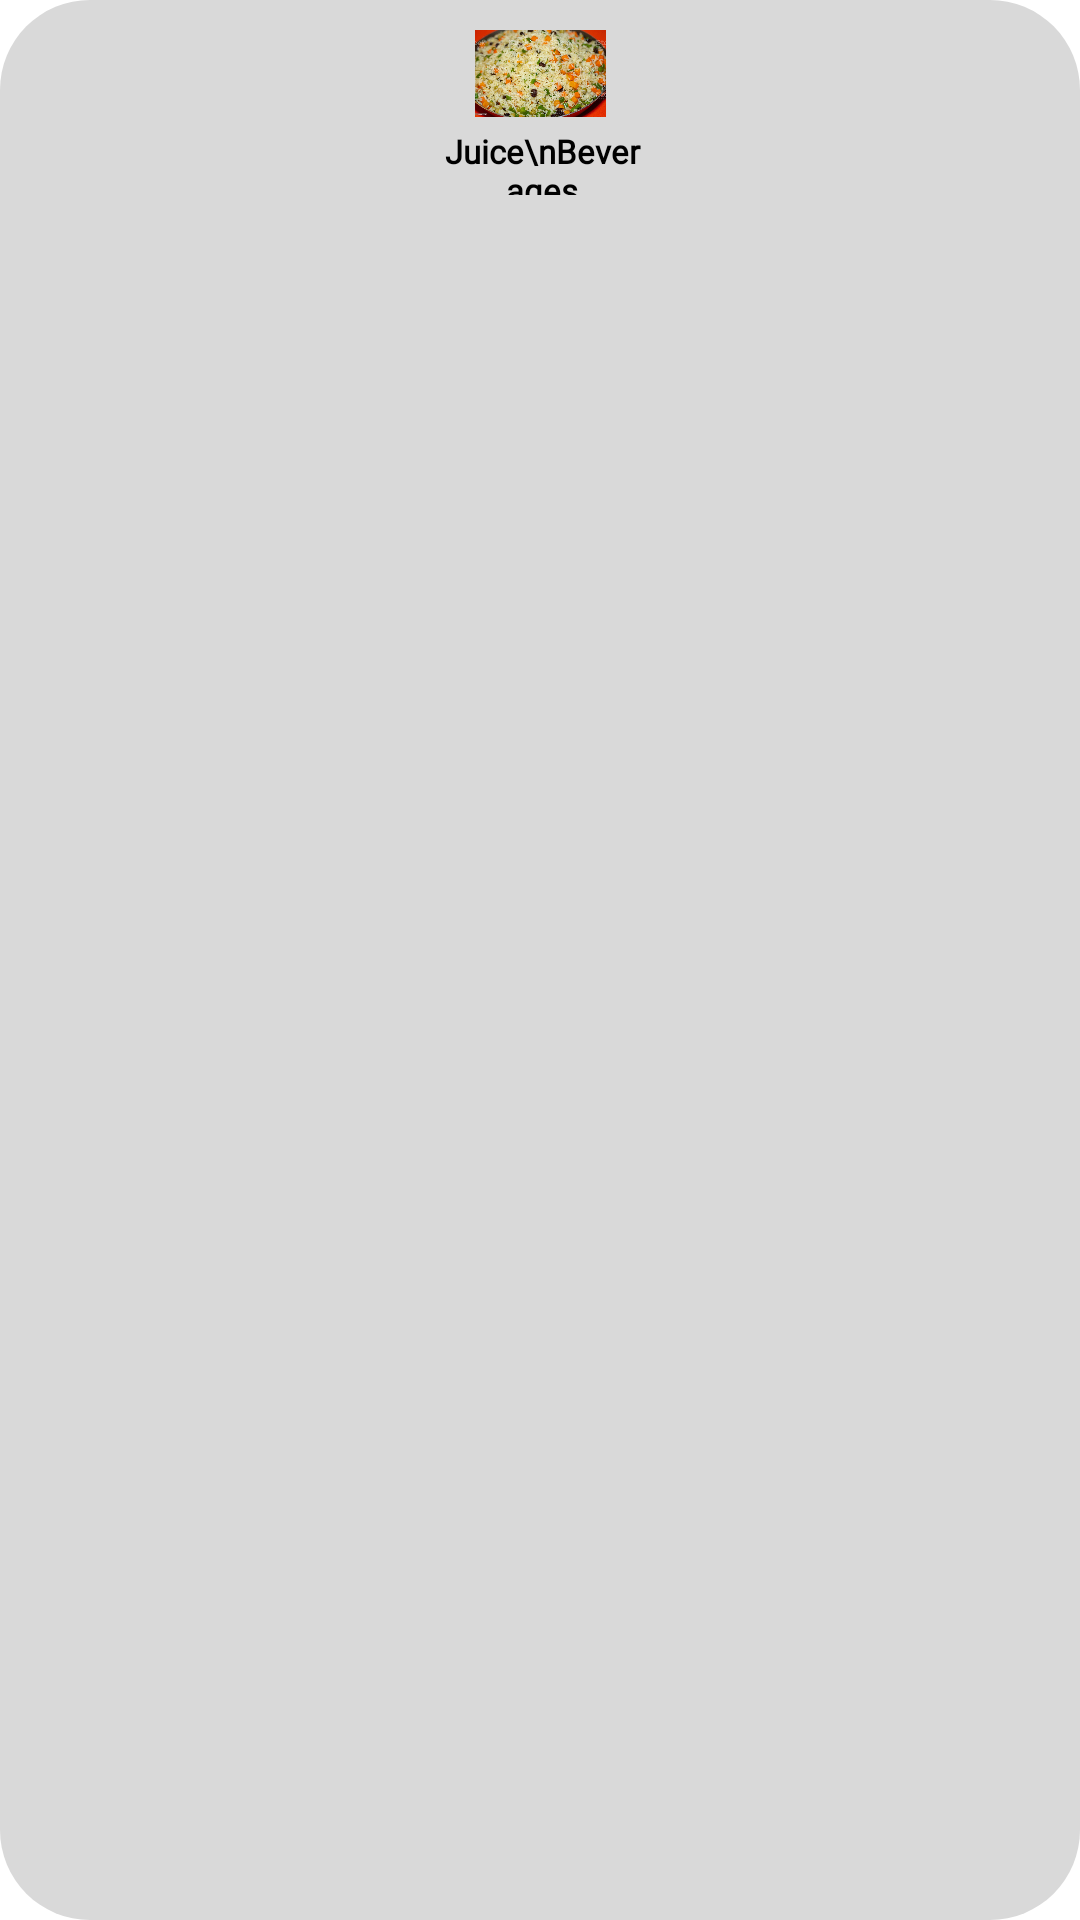

Named icons in this screenshot (1080 × 1920) and their centers, point (x, y):
biryani: point (540, 73)
